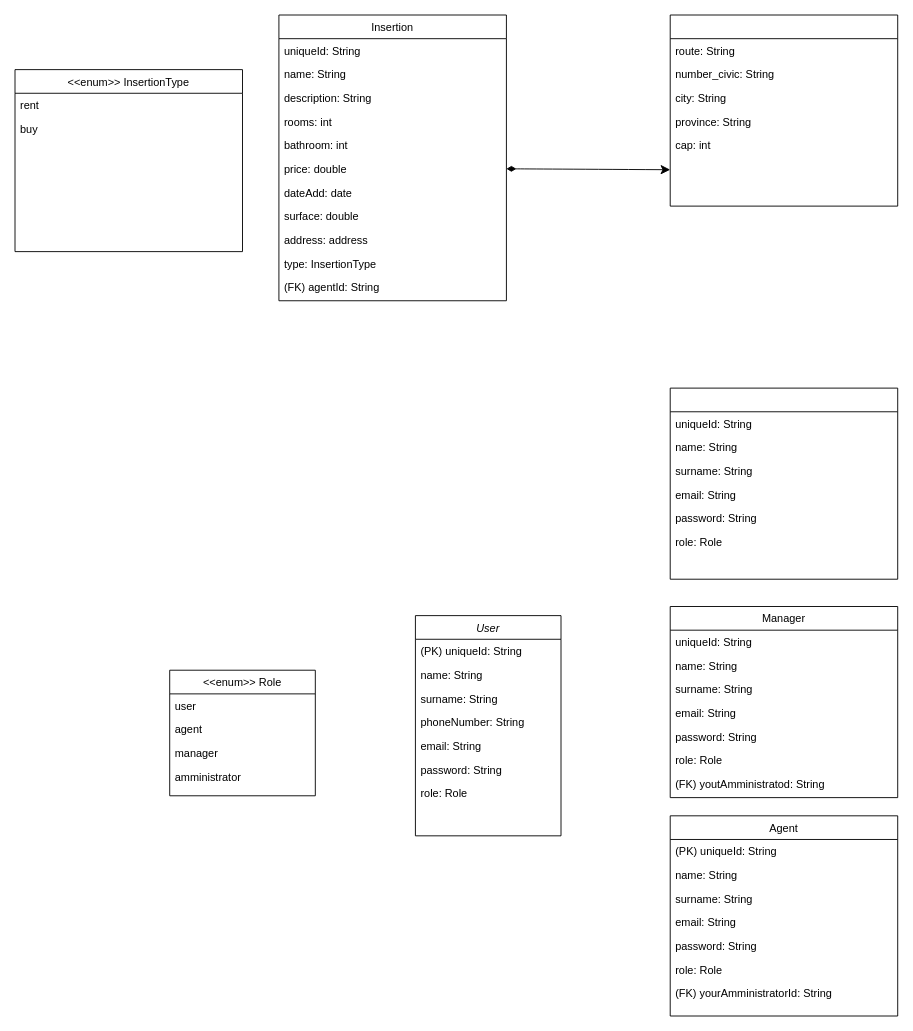
This 913x1031 diagram has some shape labels left out. The box of each missing label's shape, as (x1, y1, x2, y2) in pixels:
Address: (669, 14, 898, 206)
Ammistrator: (669, 387, 898, 579)
